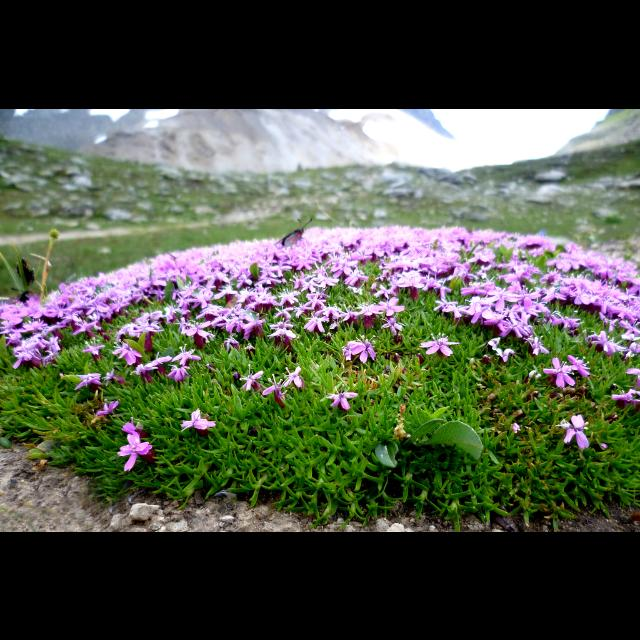Flower: (1, 226, 640, 388), (110, 427, 150, 475), (556, 414, 592, 448), (340, 332, 378, 363), (180, 408, 218, 432), (544, 354, 572, 386), (419, 332, 459, 354), (238, 362, 266, 390), (482, 336, 512, 360), (261, 373, 285, 402), (92, 397, 120, 421), (329, 386, 356, 410), (566, 353, 590, 375), (614, 389, 640, 405), (284, 369, 302, 385)
